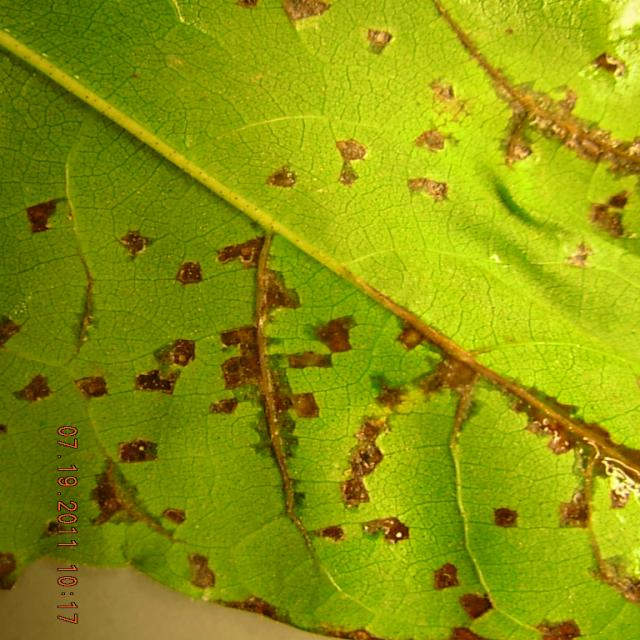Bacterial Blight: (8, 176, 625, 623)
